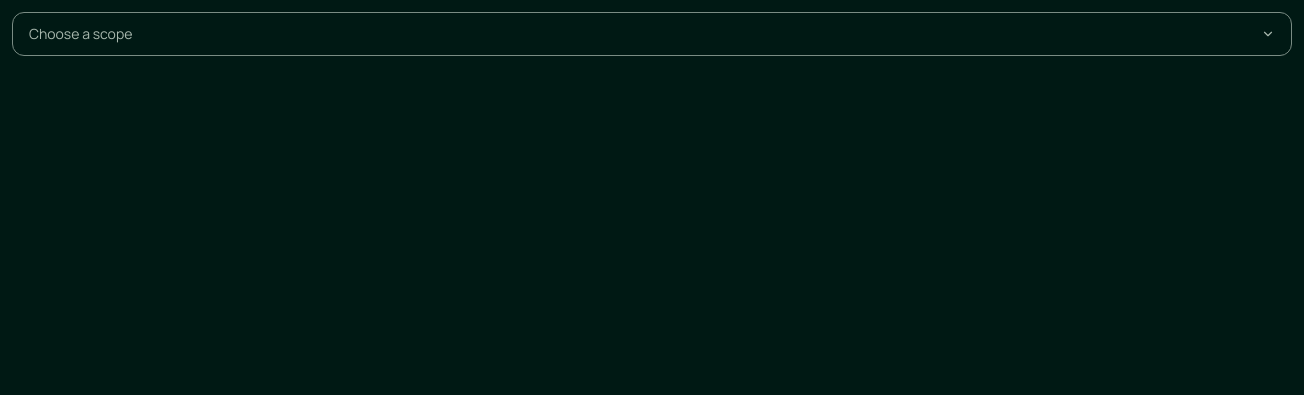
Test case: ScopeSelect › picks from the keyboard and reports the full scope path
Press ArrowDown in the button with aria-label "Scope: Choose a scope", box [12, 12, 1292, 56]
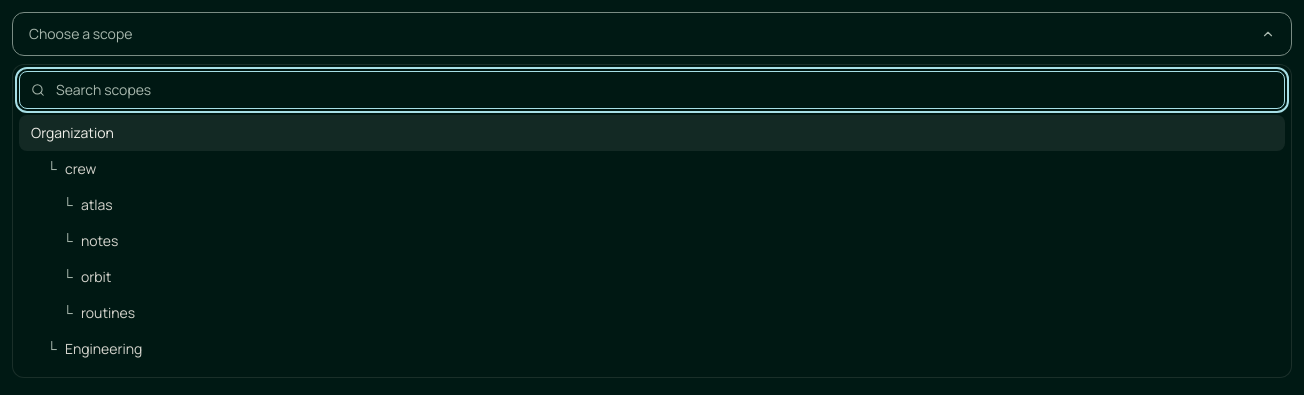
In the dropdown labelled "Search scope": (652, 90) [19, 71, 1285, 109], type "atlas"
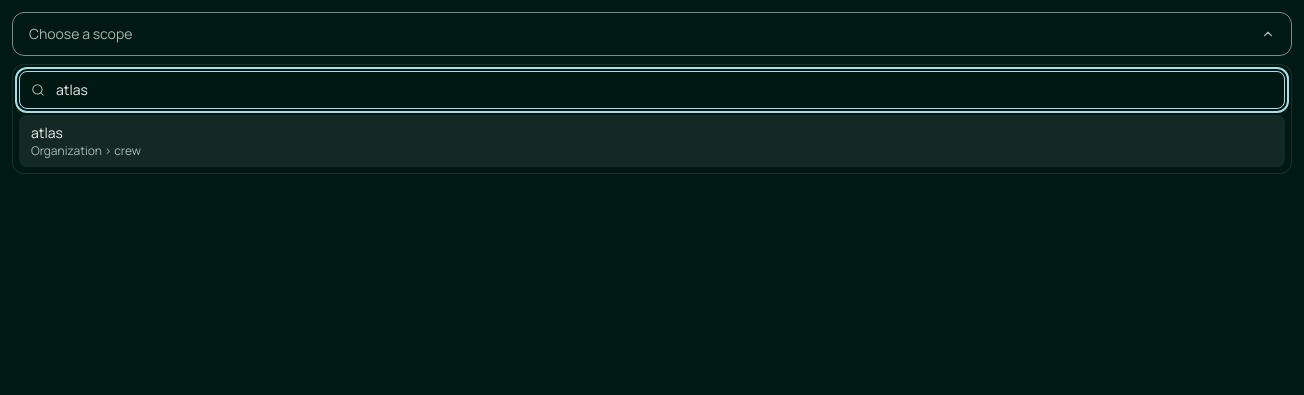
Press Enter in the dropdown named "Search scope", box [19, 71, 1285, 109]
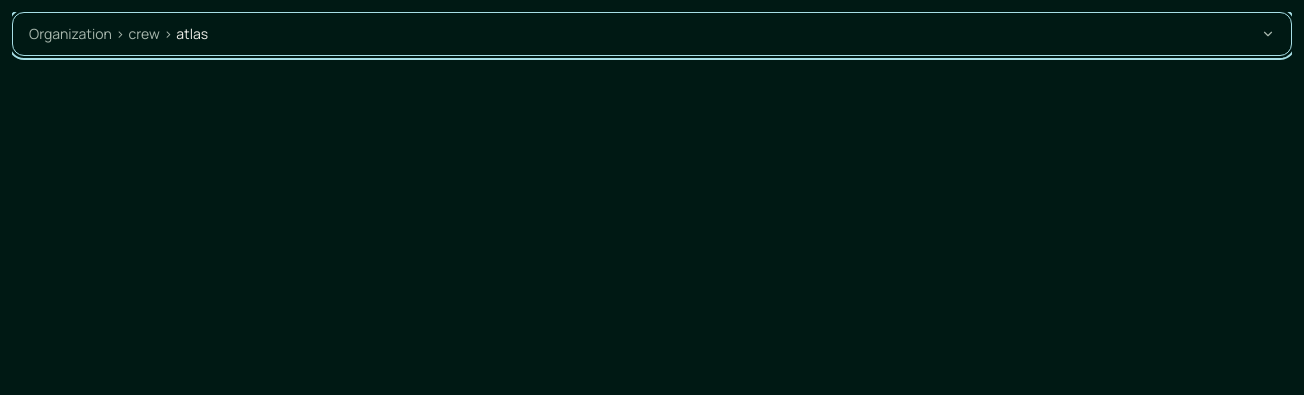
Result: the list is gone
